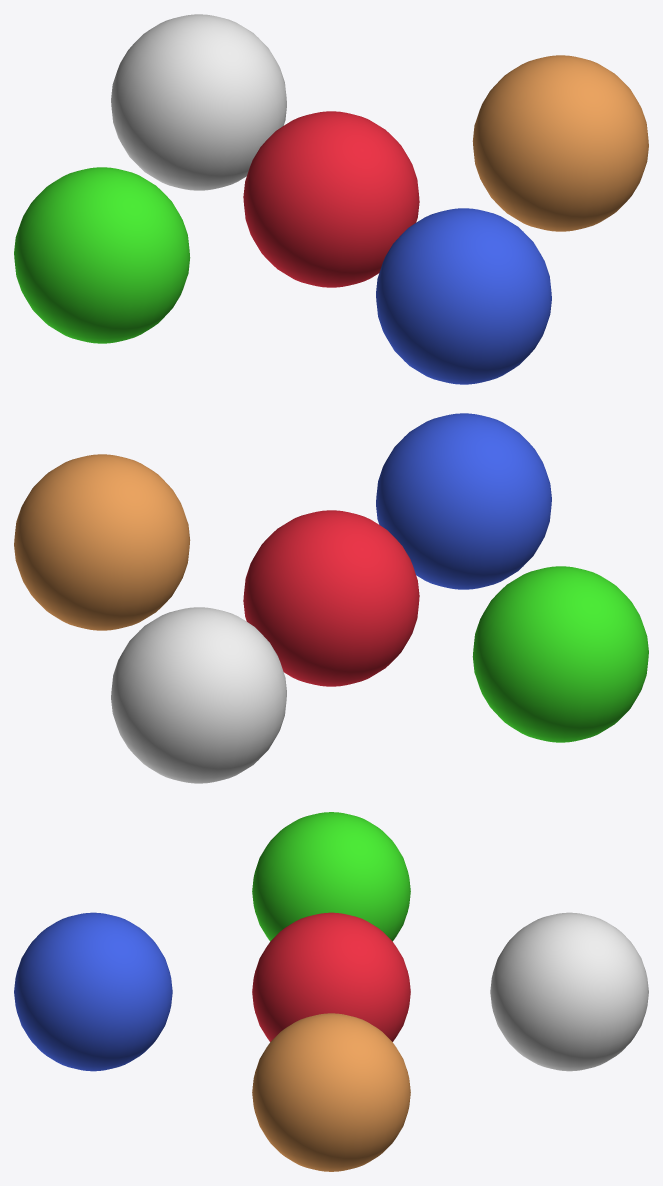
Rendered from spheres.glb.
3 views of the same model, one above another, from view 1: azimuth 30°, elevation 25°; view 2: azimuth 150°, elevation 25°; view 3: azimuth 270°, elevation 25° (orthographic). The views are drawn at different scales.
Visible parts, largest first — view 1: Sphere.001, Sphere.002, Sphere.003, Sphere, Sphere.004; view 2: Sphere.001, Sphere.002, Sphere.004, Sphere, Sphere.003; view 3: Sphere.003, Sphere.004, Sphere.001, Sphere.002, Sphere.
Boxes of the visible parts, x1,y1,x2,y2 form: Sphere.001: [472, 55, 648, 231]; Sphere.002: [14, 167, 190, 343]; Sphere.003: [376, 208, 551, 384]; Sphere: [243, 111, 419, 287]; Sphere.004: [111, 14, 286, 190]; Sphere.001: [14, 454, 190, 630]; Sphere.002: [472, 566, 648, 742]; Sphere.004: [111, 607, 286, 783]; Sphere: [243, 510, 419, 686]; Sphere.003: [376, 413, 551, 589]; Sphere.003: [14, 912, 172, 1071]; Sphere.004: [490, 912, 648, 1071]; Sphere.001: [252, 1013, 410, 1171]; Sphere.002: [252, 812, 410, 941]; Sphere: [252, 912, 410, 1041].
Size of the model in its own units: 8 by 2 by 8.
